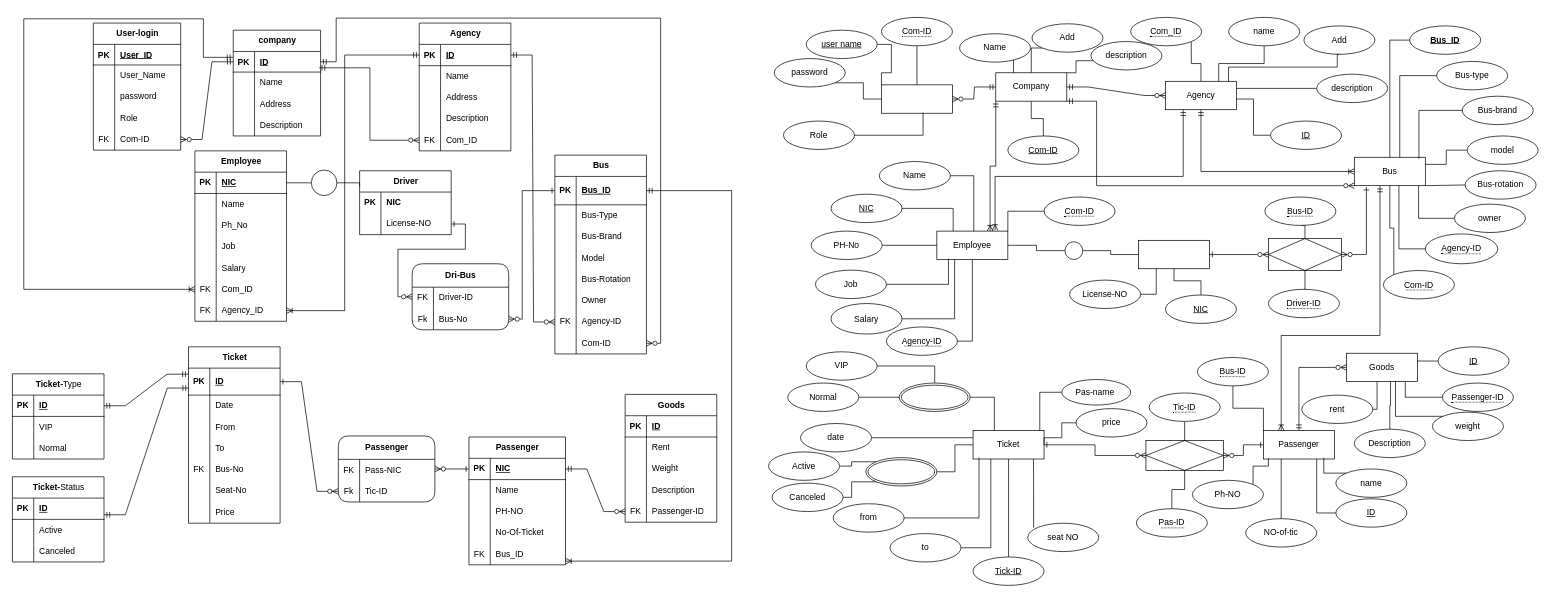
Image size: 1551x598. Some labels were removed from this diagram. The centre of each missing label's shape, as x and y in pixels:
Driv-Bus: (1305,254)
Drivers: (1173,254)
Status: (901,471)
Tick-pas: (1184,455)
type: (934,396)
User Login: (916,98)
